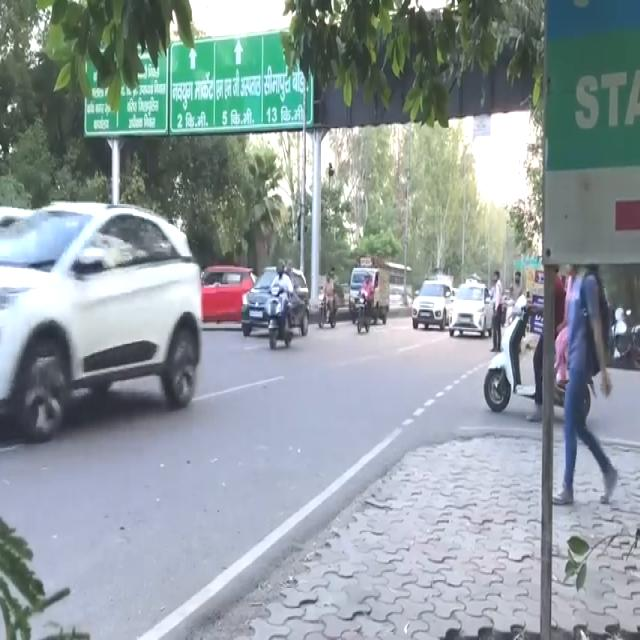MOTORCYCLE: (268, 290, 309, 352), (318, 288, 338, 328), (356, 292, 370, 334)
SUV: (3, 200, 206, 443)
